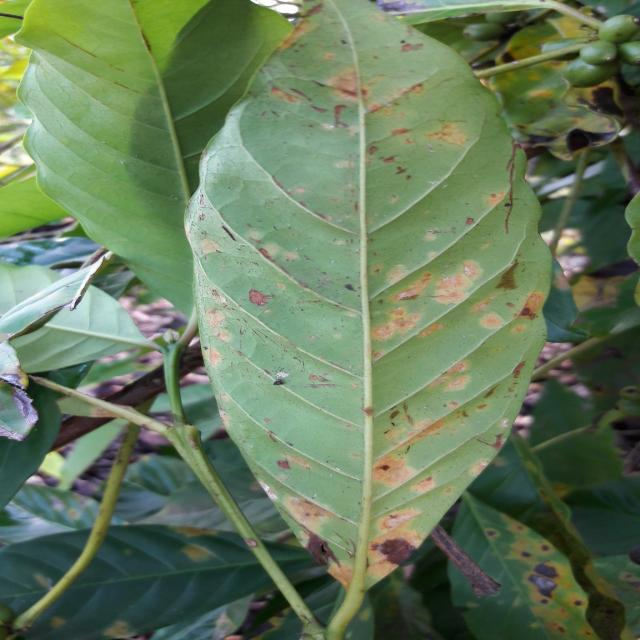Enfermedad-Roya: (183, 0, 552, 629)
